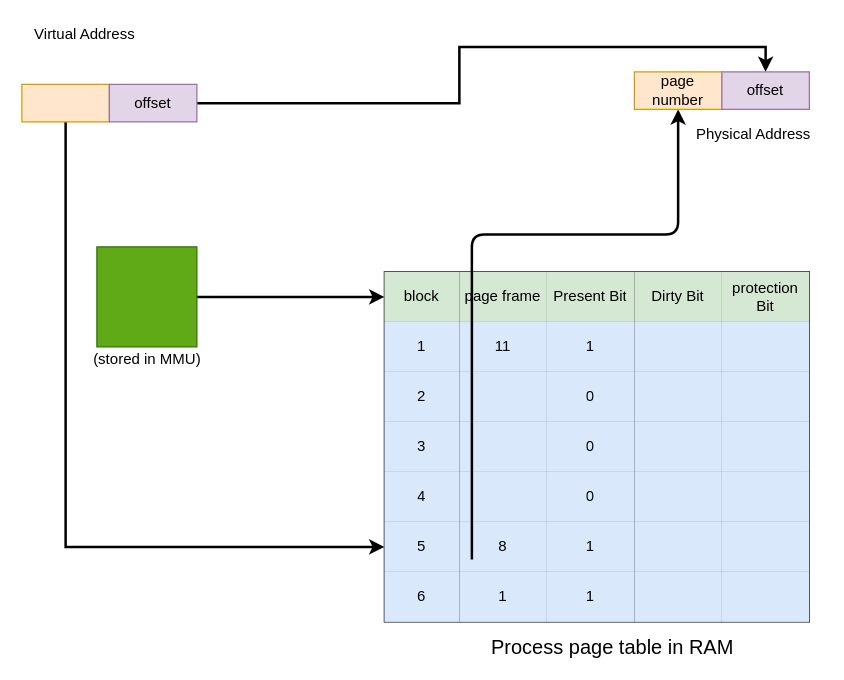
Some shapes in this 844 by 680 pixel diagram are drawn without their labels. Here are the shapes that lost their labels. From the top down, the centre of each, then its label:
At pixel 65 102: "Table index".
At pixel 146 296: "PTPR (Page table pointer register)".
